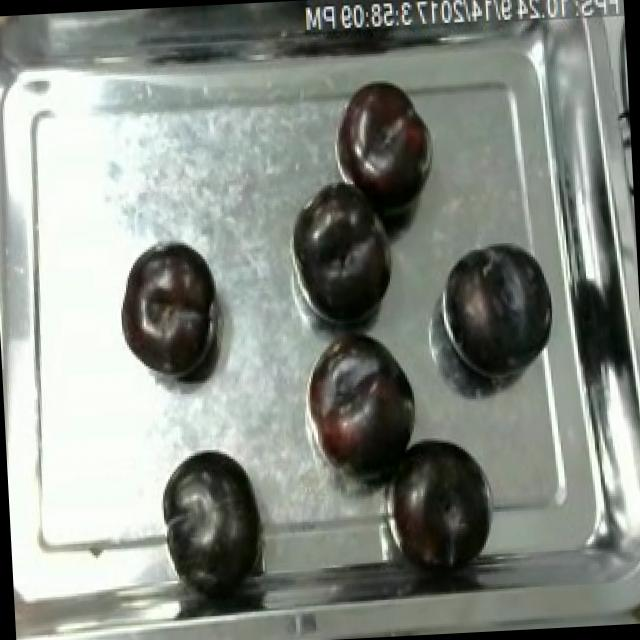Fruit: (436, 236, 562, 386), (300, 340, 424, 490), (114, 236, 228, 390), (155, 445, 270, 594), (290, 180, 400, 334), (378, 432, 497, 570), (330, 71, 444, 215)
